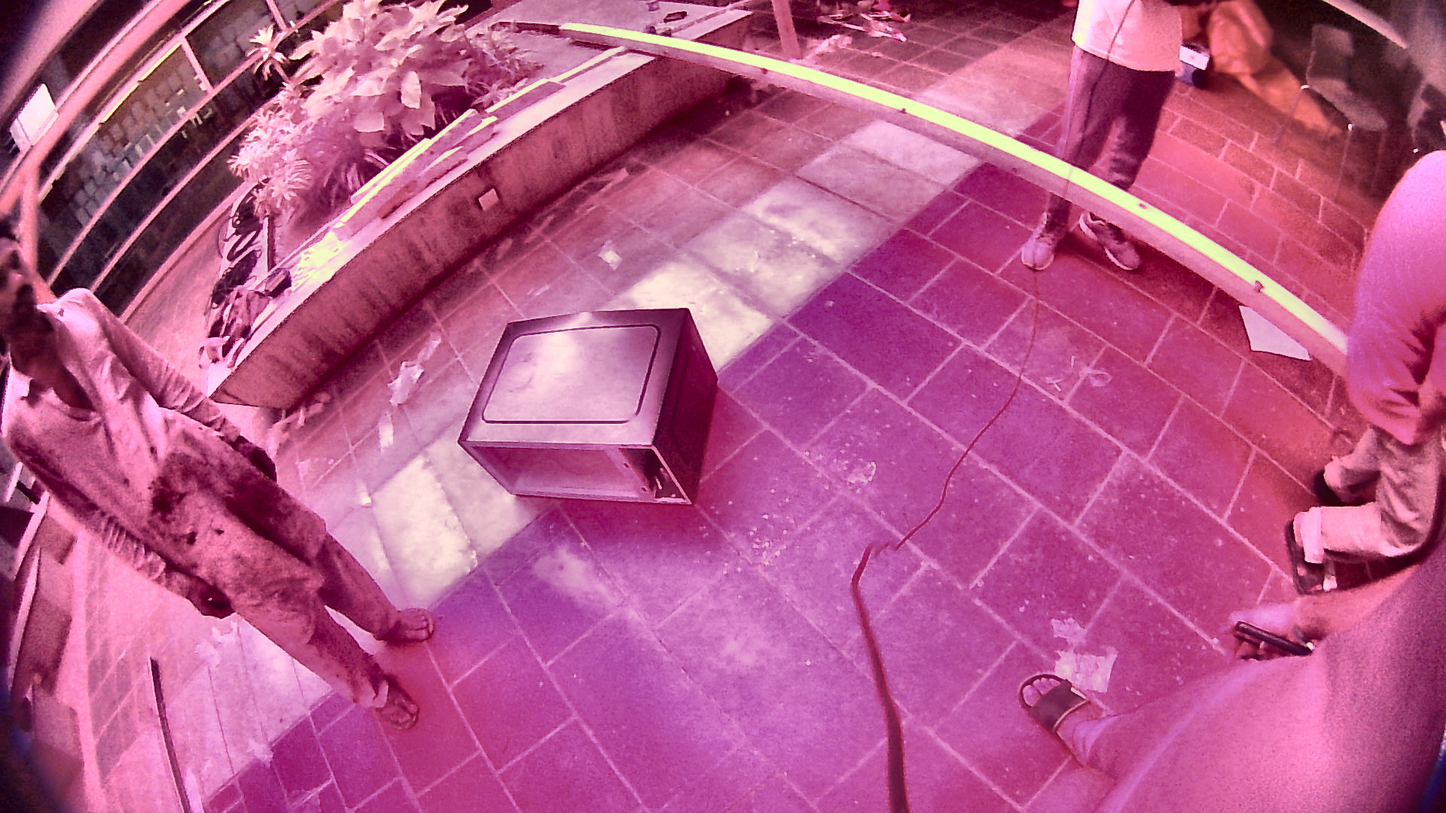MicroWave: (454, 293, 716, 514)
